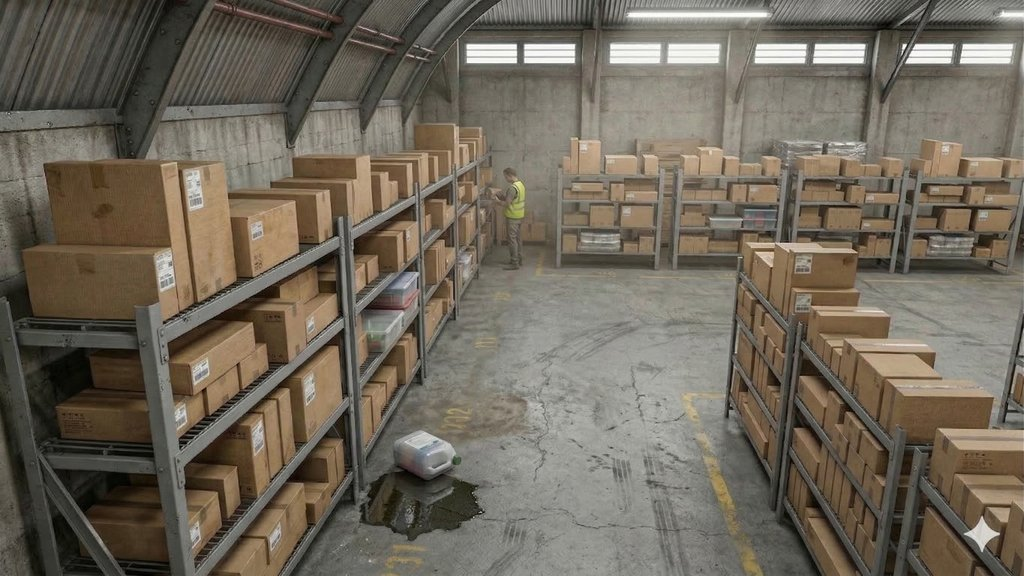person: (478, 149, 555, 265)
safety_vest: (502, 184, 529, 222)
spill: (354, 430, 513, 554)
